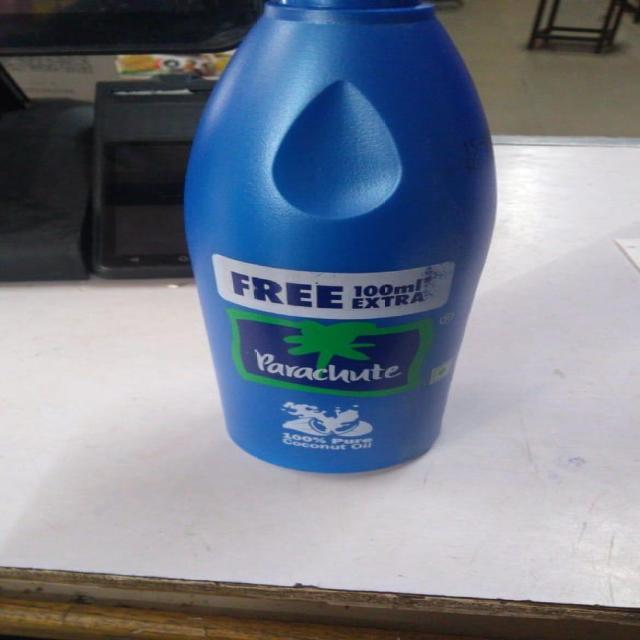parachute_oil: (173, 0, 503, 478)
